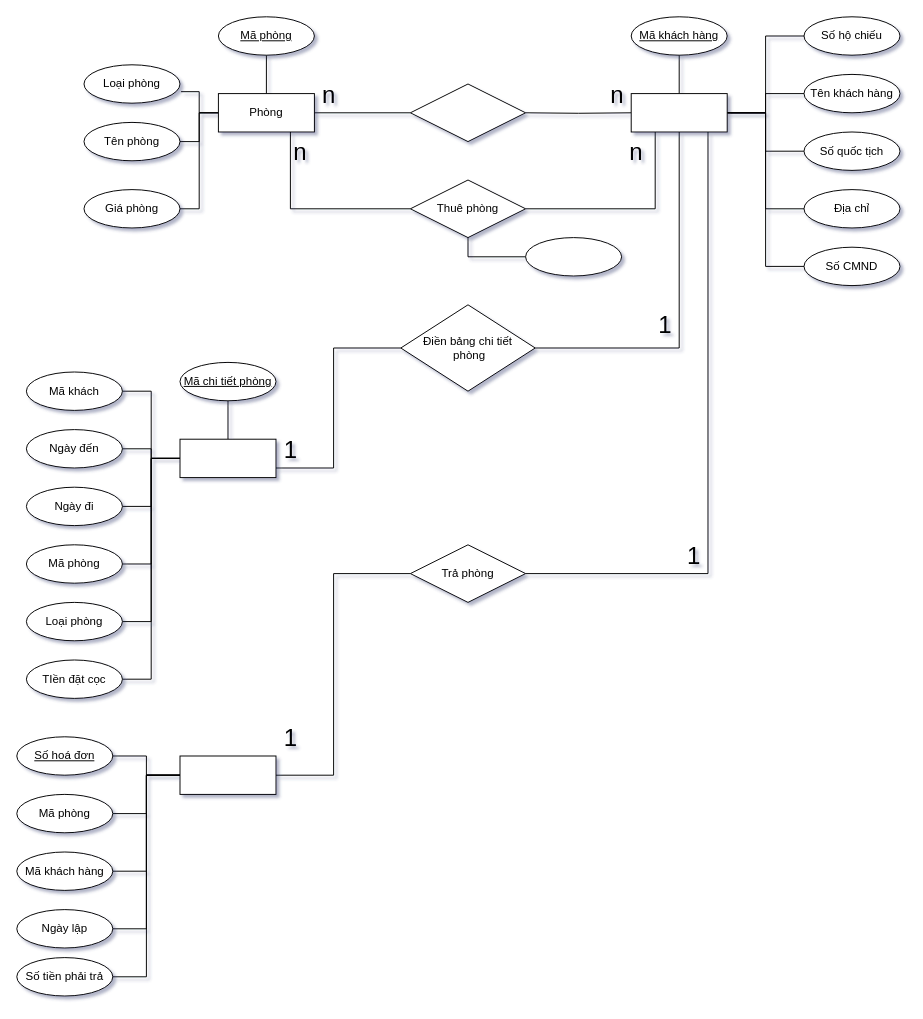
Image size: 923x1019. Some labels were removed from this diagram. Here are the shapes that lost their labels. From the top down, the centre of each, then its label:
At pixel 467 112: "Xem phòng".
At pixel 678 112: "Khách hàng".
At pixel 573 256: "Thời gian".
At pixel 227 458: "Bảng chi tiết phòng".
At pixel 227 774: "Hoá đơn".
